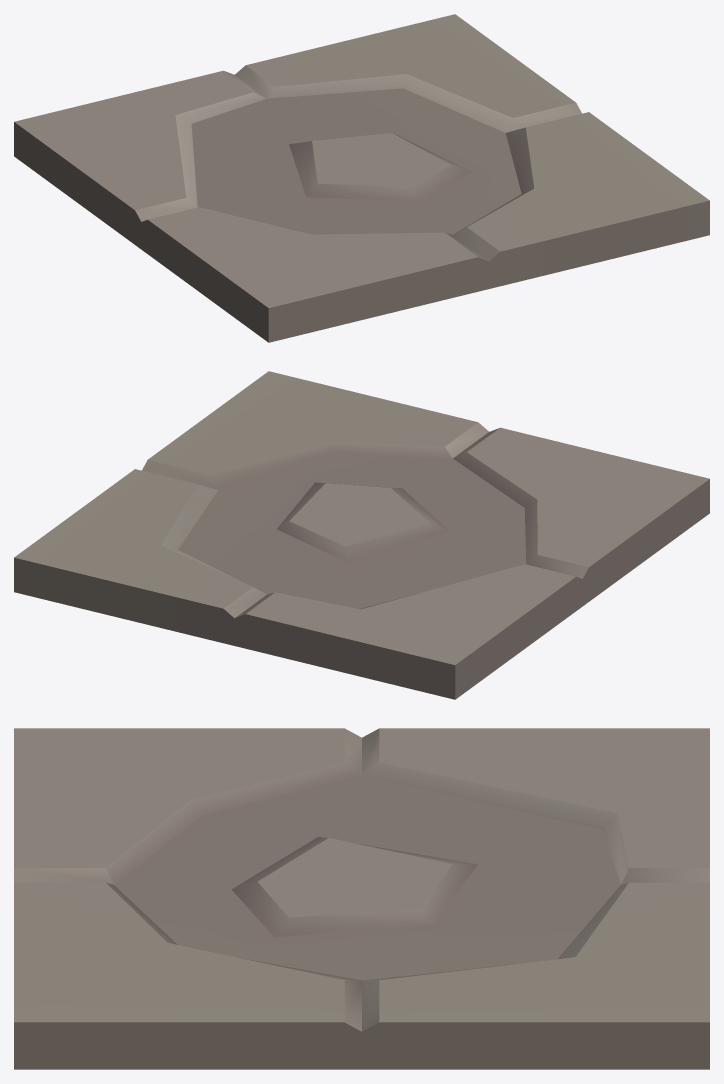
File: b_donjon_sol_dalle_cassee.glb
3 renders of one model, top to bottom at view 1: azimuth 30°, elevation 25°; view 2: azimuth 150°, elevation 25°; view 3: azimuth 270°, elevation 25°, orthographic. The views are drawn at different scales.
Parts seen in each view (by area): view 1: b_donjon_sol_dalle_cassee; view 2: b_donjon_sol_dalle_cassee; view 3: b_donjon_sol_dalle_cassee.
Part boxes in pixels (bbox=[...]): b_donjon_sol_dalle_cassee: bbox=[14, 14, 709, 342]; b_donjon_sol_dalle_cassee: bbox=[14, 371, 709, 699]; b_donjon_sol_dalle_cassee: bbox=[14, 728, 709, 1069].
Size of the model in its own units: 2 by 0.1499 by 2.
1 material, 1 textured.
